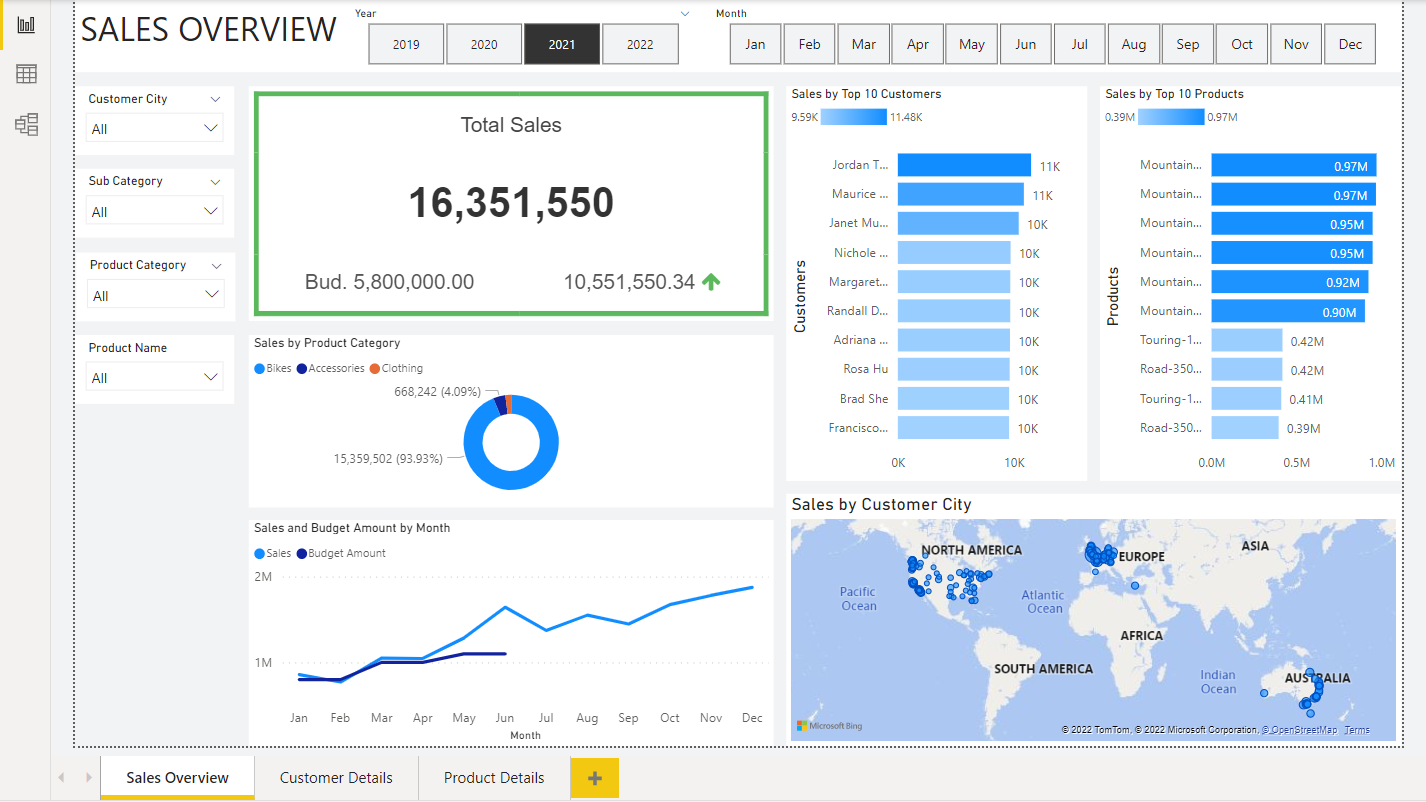

Layout of this report page (visuals, bound fields, positions):
{"tool":"powerbi","page":{"name":"Sales Overview","canvas":[1280,720],"ordinal":0},"visuals":[{"type":"textbox","box":[0,0,1280,69.3],"z":0},{"type":"slicer","fields":{"Values":["Dim_Customer.Customer City"]},"box":[0,82.9,153.5,66.6],"z":1000},{"type":"slicer","fields":{"Values":["Dim_Product.Sub Category"]},"box":[0,163.1,153.5,66.6],"z":2000},{"type":"slicer","fields":{"Values":["Dim_Product.Product Category"]},"box":[1.4,243.2,153.5,66.6],"z":3000},{"type":"slicer","fields":{"Values":["Dim_Product.Product Name"]},"box":[0,323.4,153.5,66.6],"z":4000},{"type":"slicer","title":"Year","fields":{"Values":["Dim_Calender.Date.Variation.Date Hierarchy.Year"]},"box":[256.8,1.4,349.2,67.9],"z":5000},{"type":"slicer","title":"Month","fields":{"Values":["Dim_Calender.MonthShort"]},"box":[606,1.4,674,67.9],"z":6000},{"type":"BBED0A4D4D8D44CE93CF2DAFADEE466C","fields":{"actual":["Fact_InternetSales.Sales"],"target1":["Fact_Budget.Budget Amount"],"target2":["Fact_Budget.Sales - Budget"]},"box":[167.6,83.2,506.5,226.7],"z":7000},{"type":"donutChart","fields":{"Category":["Dim_Product.Product Category"],"Y":["Key Measures.Sales"]},"box":[167.6,323.2,506.5,166.4],"z":8000},{"type":"lineChart","fields":{"Category":["Dim_Calender.MonthShort"],"Y":["Key Measures.Sales","Key Measures.Budget Amount"]},"box":[167.6,501.7,506.5,218.3],"z":9000},{"type":"barChart","title":"Sales by Top 10 Customers","fields":{"Y":["Key Measures.Sales"],"Category":["Dim_Customer.Full Name"]},"box":[686.2,83.2,290.7,381.1],"z":10000},{"type":"barChart","title":"Sales by Top 10 Products","fields":{"Y":["Key Measures.Sales"],"Category":["Dim_Product.Product Name"]},"box":[988.9,83.2,290.7,381.1],"z":11000},{"type":"map","fields":{"Category":["Dim_Customer.Customer City"],"Size":["Key Measures.Sales"]},"box":[686.2,476.4,593.4,243.6],"z":12000}]}

Visuals, with their boxes on the page's 1280x720 design canvas (x1, y1, x2, y2). These are canvas units, not pixel positions in the 1426x802 screenshot, which may show the page scaled, cropped or inside an application window:
textbox: 0/0/1280/69
slicer - Dim_Customer.Customer City: 0/83/154/150
slicer - Dim_Product.Sub Category: 0/163/154/230
slicer - Dim_Product.Product Category: 1/243/155/310
slicer - Dim_Product.Product Name: 0/323/154/390
"Year" slicer: 257/1/606/69
"Month" slicer: 606/1/1280/69
BBED0A4D4D8D44CE93CF2DAFADEE466C - Fact_InternetSales.Sales x Fact_Budget.Budget Amount: 168/83/674/310
donutChart - Dim_Product.Product Category x Key Measures.Sales: 168/323/674/490
lineChart - Dim_Calender.MonthShort x Key Measures.Sales: 168/502/674/720
"Sales by Top 10 Customers" barChart: 686/83/977/464
"Sales by Top 10 Products" barChart: 989/83/1280/464
map - Dim_Customer.Customer City x Key Measures.Sales: 686/476/1280/720
